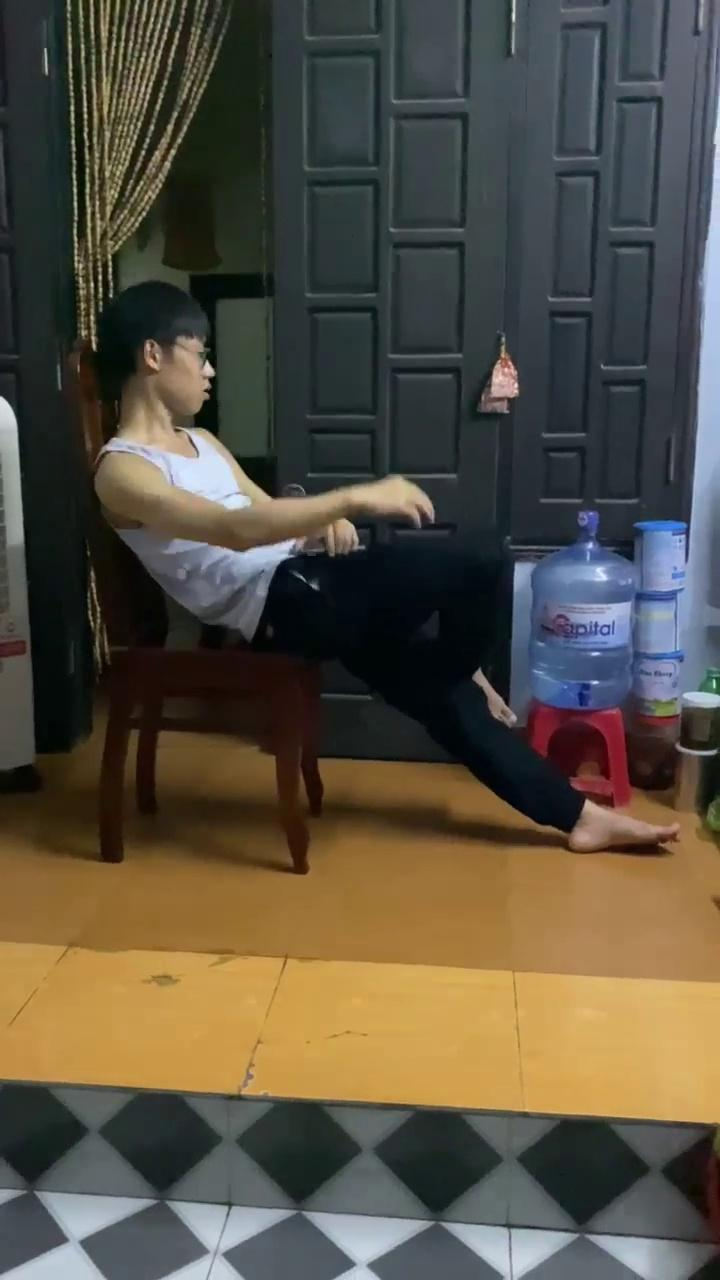BadPosture: (94, 282, 676, 851)
